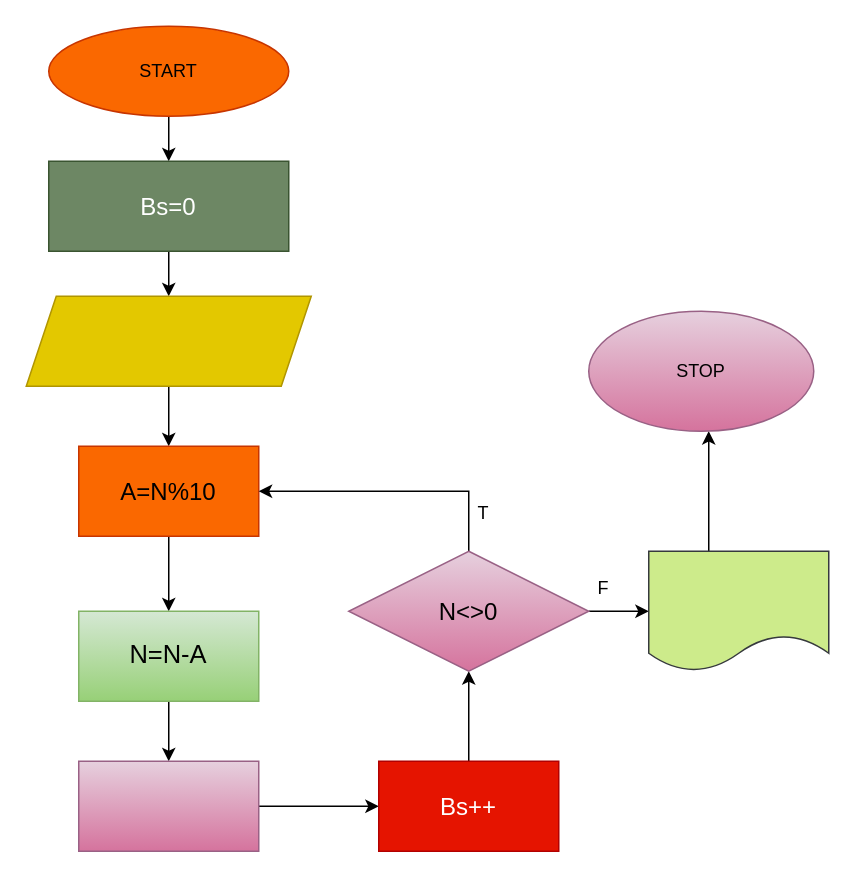
Image size: 855x878. Some labels were removed from this diagram. The shapes that lost their labels are listed below. From the top down, each one's box as (x1, y1, x2, y2) in pixels, then its label:
(25, 295, 311, 386): ENTER NUMBER (N)
(647, 550, 829, 671): Bs
(77, 760, 259, 851): N=N/10
